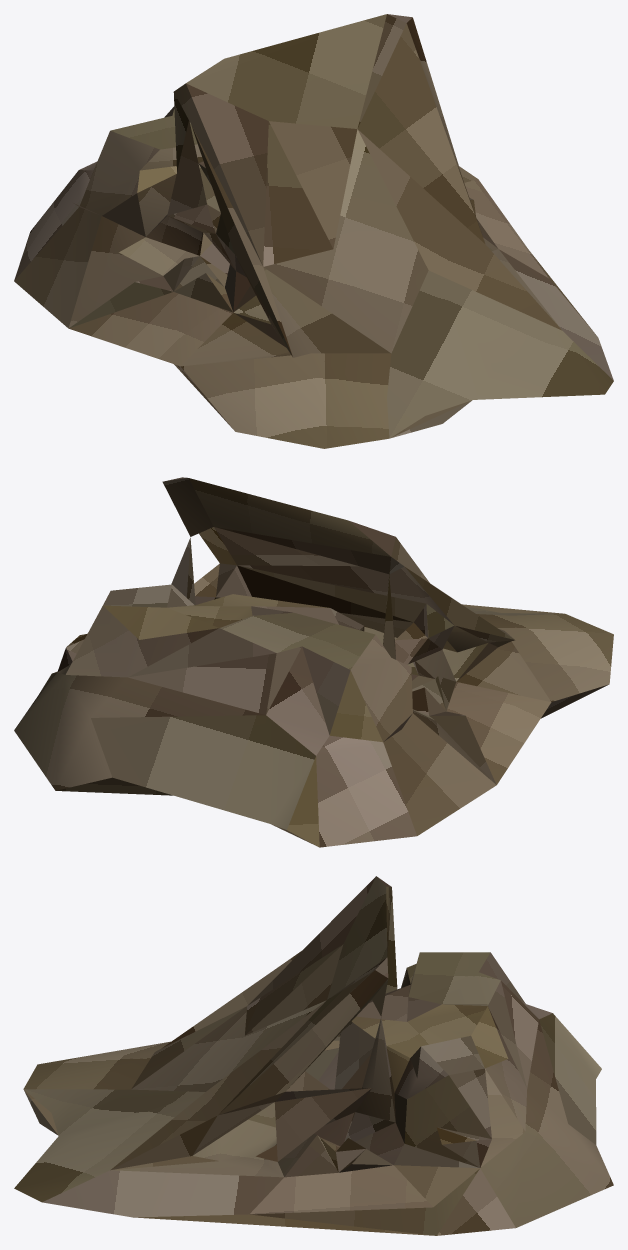
The model's file is jump-ramp.collision.glb.
3 views of the same model, one above another, from view 1: azimuth 30°, elevation 25°; view 2: azimuth 150°, elevation 25°; view 3: azimuth 270°, elevation 25° (orthographic). The views are drawn at different scales.
Visible parts, largest first — view 1: output_unwrapped; view 2: output_unwrapped; view 3: output_unwrapped.
Boxes of the visible parts, x1,y1,x2,y2 form: output_unwrapped: (14,14,613,448); output_unwrapped: (14,477,613,847); output_unwrapped: (14,876,613,1235).
Size of the model in its own units: 1.44 by 0.7524 by 1.8.
Materials: 1 (1 with a texture image).
